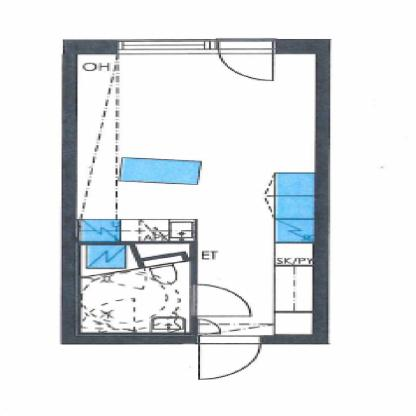door: (194, 333, 260, 386), (216, 36, 277, 83), (185, 284, 263, 320)
window: (120, 42, 212, 52)
zone: (82, 52, 317, 334), (79, 242, 186, 337)
